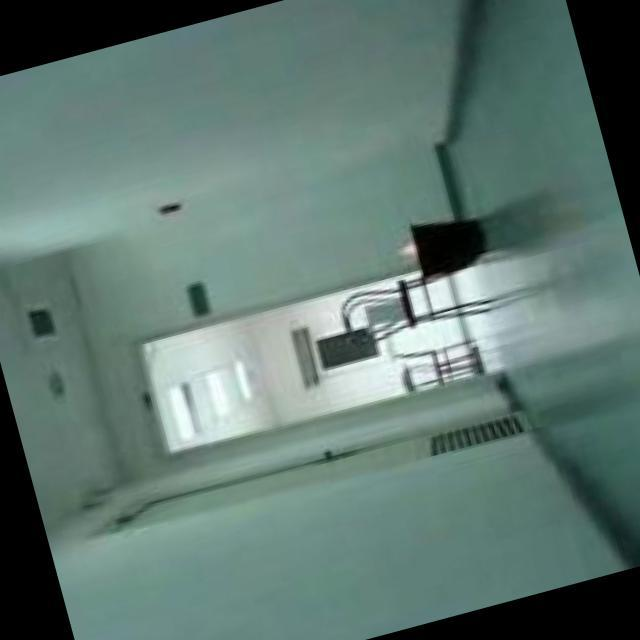Fire: (395, 237, 421, 256)
